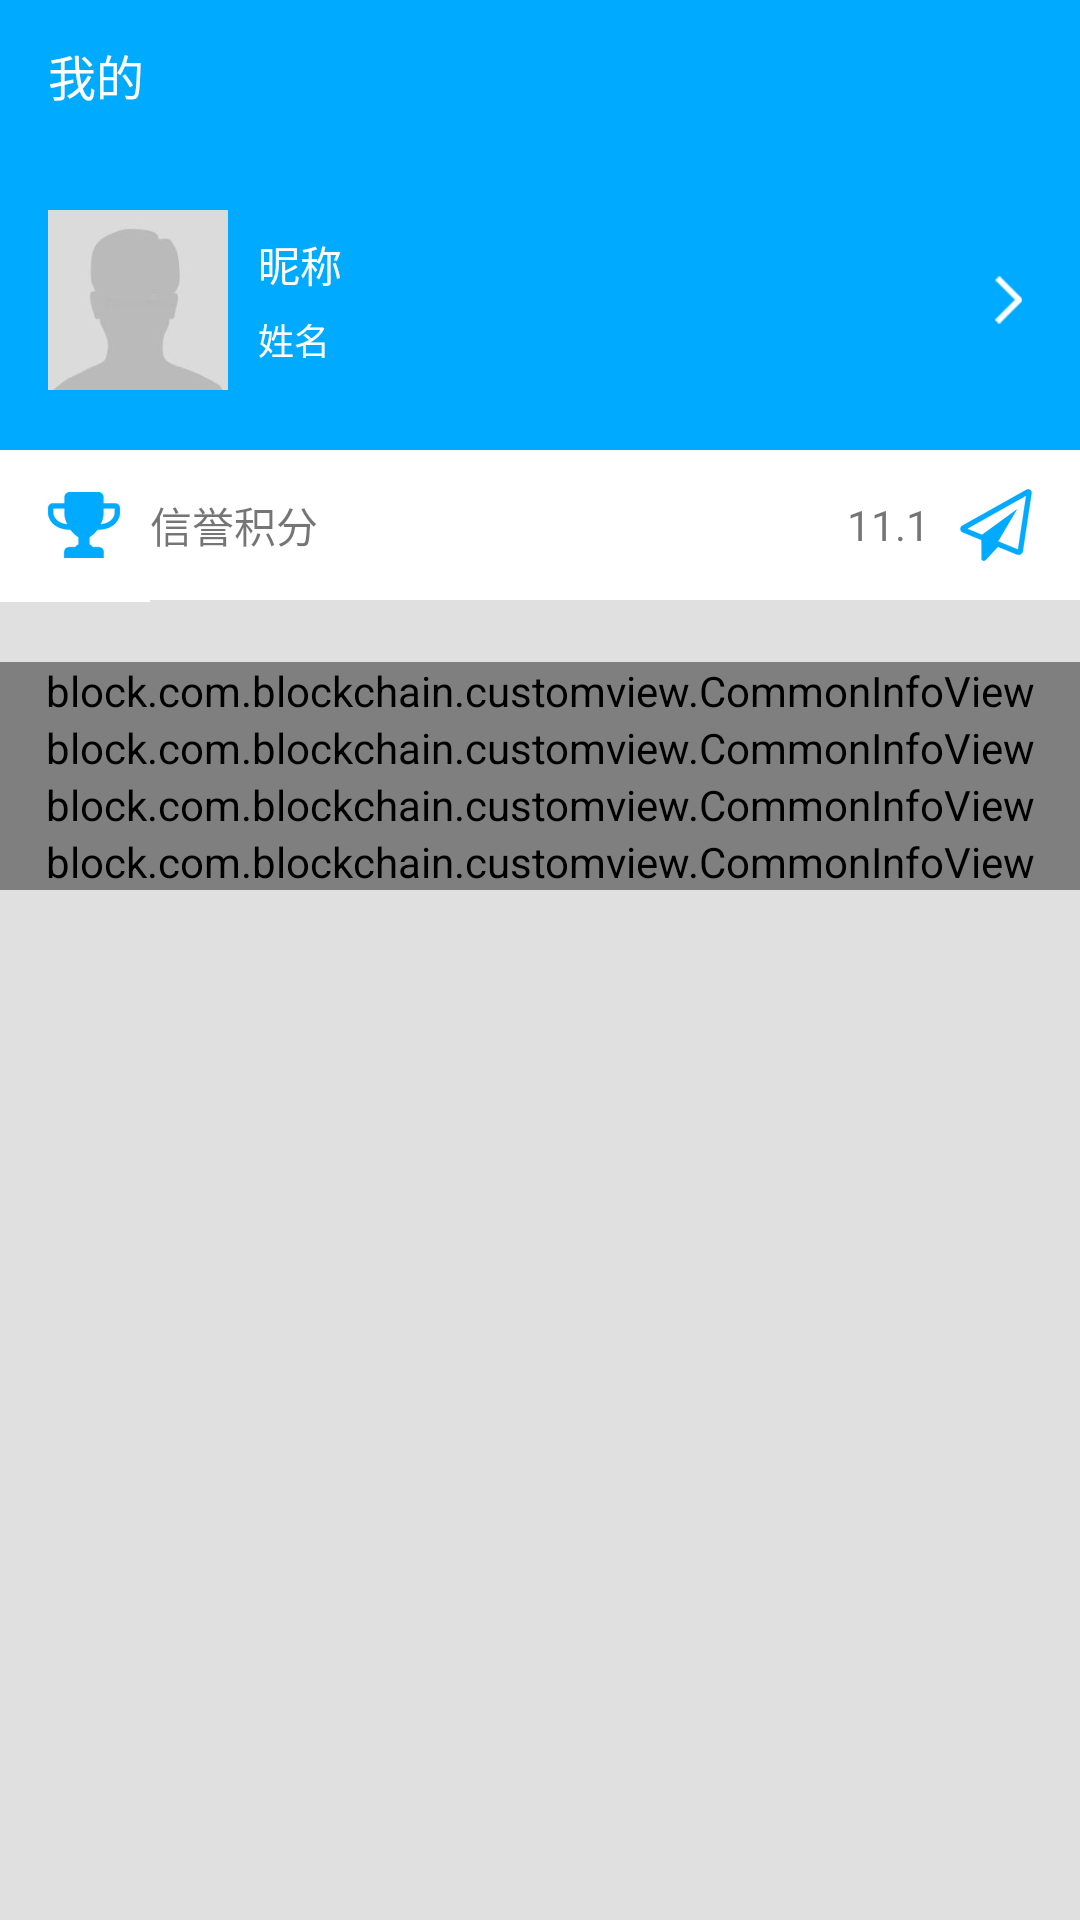

Point at icon controls on the screen. Image size 1080 × 1920, points as (x=x, y=y).
head: (x=138, y=300)
right arrow: (x=1008, y=300)
score: (x=84, y=525)
